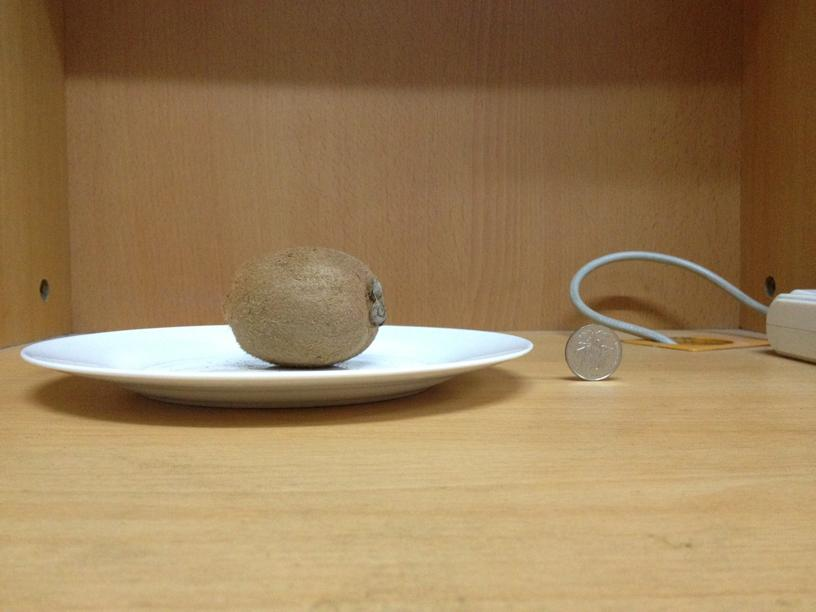coin: (560, 319, 624, 382)
qiwi: (218, 248, 387, 371)
